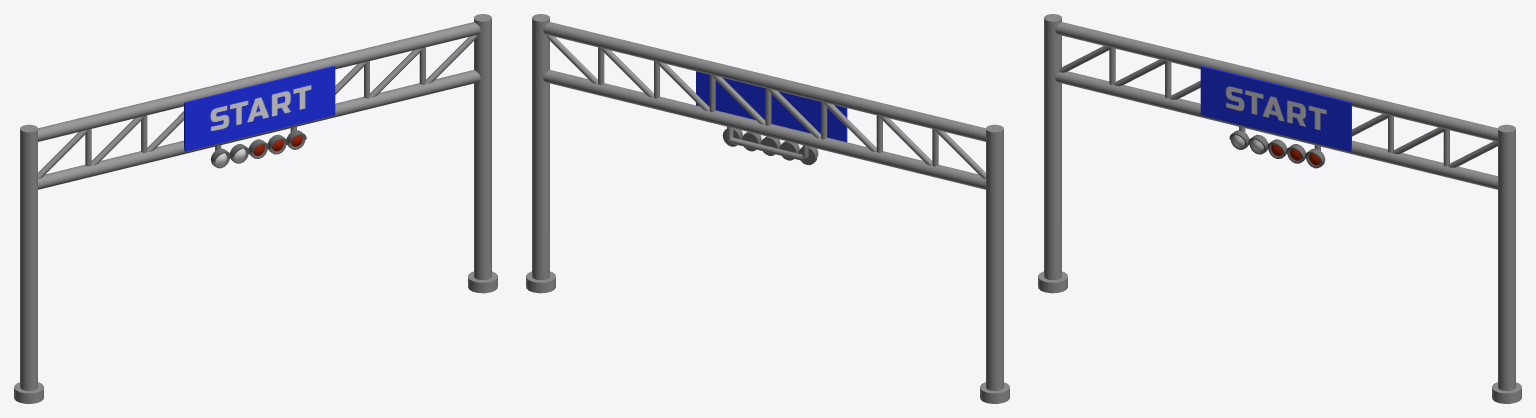
The model's file is Arch-Start_Blue_Gantry.fbx.
3 renders of one model, left to right at view 1: azimuth 30°, elevation 25°; view 2: azimuth 150°, elevation 25°; view 3: azimuth 330°, elevation 25°, orthographic.
Parts seen in each view (by area): view 1: Arch-Start_Blue_Gantry, Arch-Start_Blue_Gantry-board, Arch-Start_Blue_Gantry-dia, Arch-Start_Blue_Gantry-poles; view 2: Arch-Start_Blue_Gantry, Arch-Start_Blue_Gantry-board, Arch-Start_Blue_Gantry-dia, Arch-Start_Blue_Gantry-poles, Arch-Start_Blue_Gantry-Lights-holder; view 3: Arch-Start_Blue_Gantry, Arch-Start_Blue_Gantry-board, Arch-Start_Blue_Gantry-dia, Arch-Start_Blue_Gantry-poles.
Boxes of the visible parts, x1,y1,x2,y2 form: Arch-Start_Blue_Gantry: (14, 14, 497, 403); Arch-Start_Blue_Gantry-board: (184, 66, 335, 151); Arch-Start_Blue_Gantry-dia: (38, 35, 476, 179); Arch-Start_Blue_Gantry-poles: (85, 47, 425, 166); Arch-Start_Blue_Gantry: (526, 14, 1009, 403); Arch-Start_Blue_Gantry-board: (696, 71, 847, 142); Arch-Start_Blue_Gantry-dia: (547, 35, 985, 179); Arch-Start_Blue_Gantry-poles: (598, 47, 938, 166); Arch-Start_Blue_Gantry-Lights-holder: (727, 126, 808, 160); Arch-Start_Blue_Gantry: (1038, 14, 1521, 403); Arch-Start_Blue_Gantry-board: (1200, 66, 1351, 151); Arch-Start_Blue_Gantry-dia: (1059, 46, 1497, 167); Arch-Start_Blue_Gantry-poles: (1109, 47, 1449, 166).
Size of the model in its own units: 840 by 450 by 45.82.
